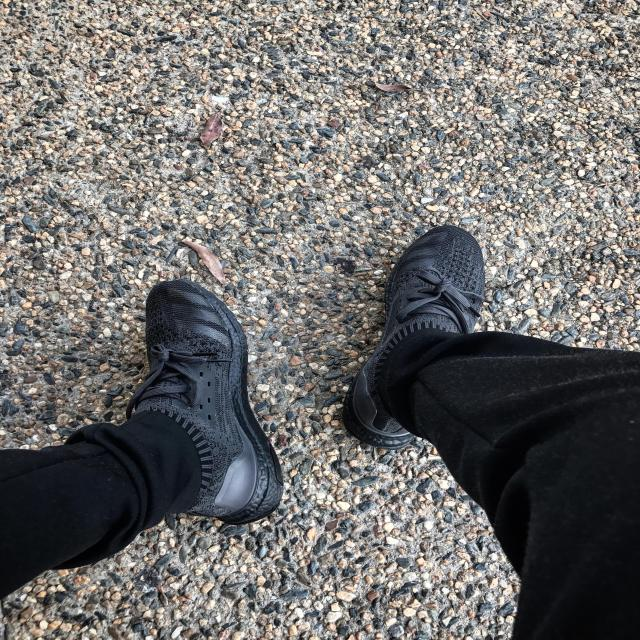shoe: (352, 190, 572, 520), (88, 235, 303, 530)
